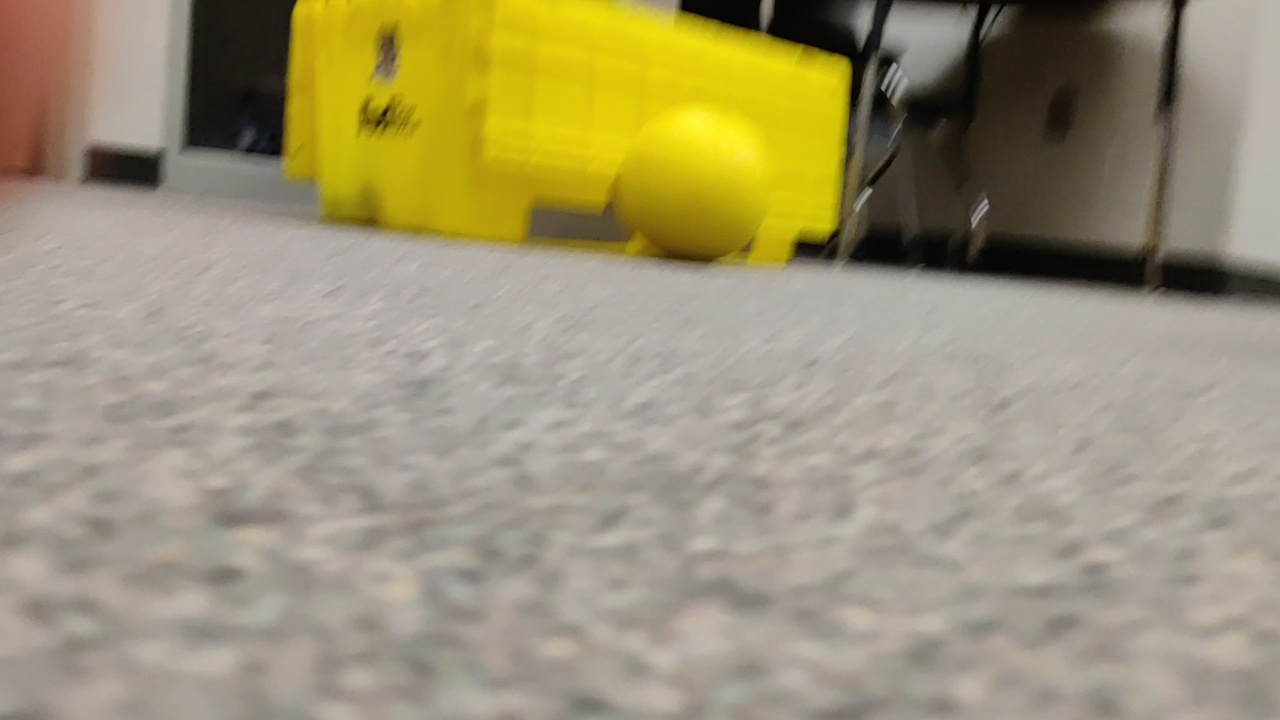Ball: (625, 107, 764, 263)
